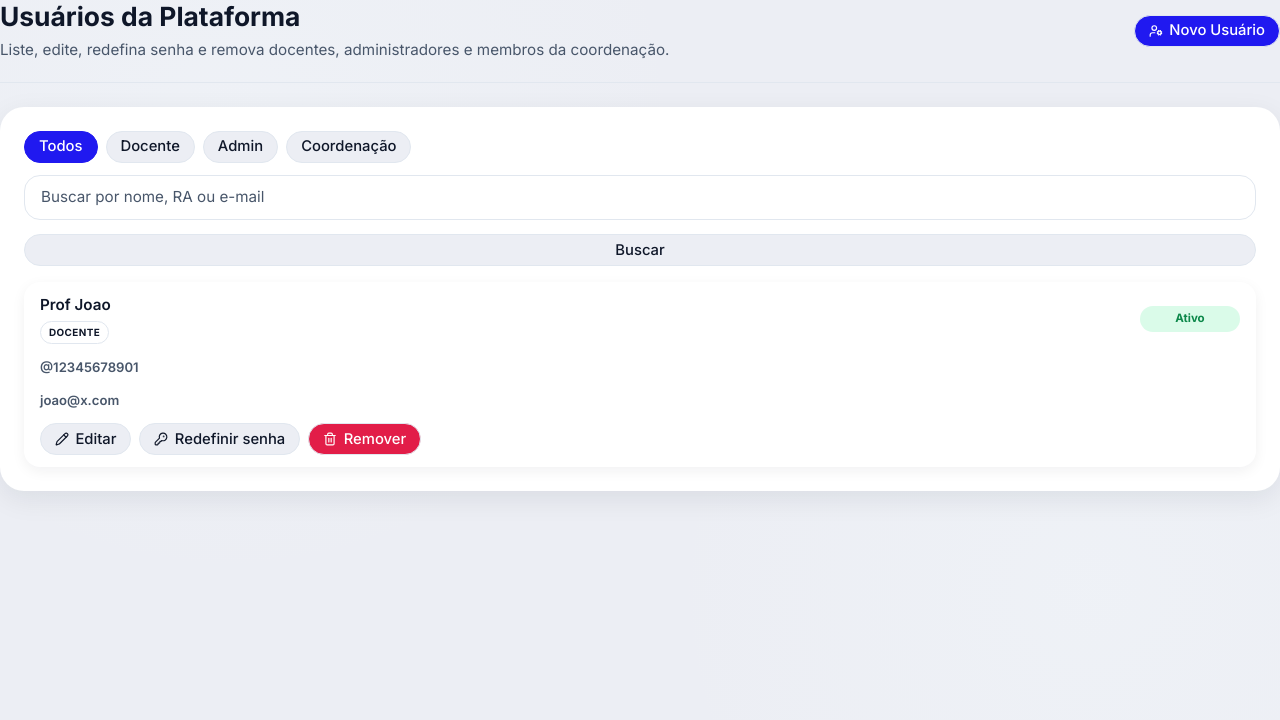
SuperUsersPage › clicar em Editar abre painel com nome preenchido
Expected: the heading "Prof Joao" is shown, [40, 294, 111, 317]
Click the button "Editar": (86, 439) [40, 423, 131, 455]
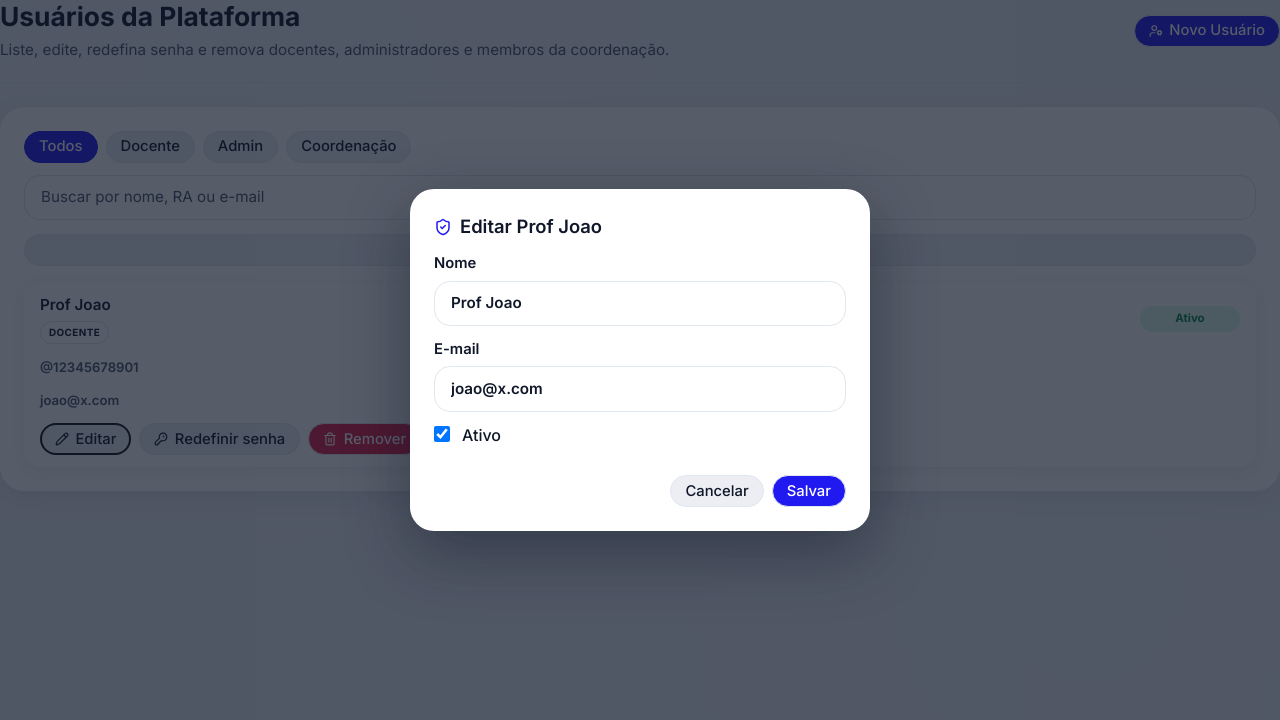
Now the heading "Editar Prof Joao" is shown, box [434, 215, 602, 237]
